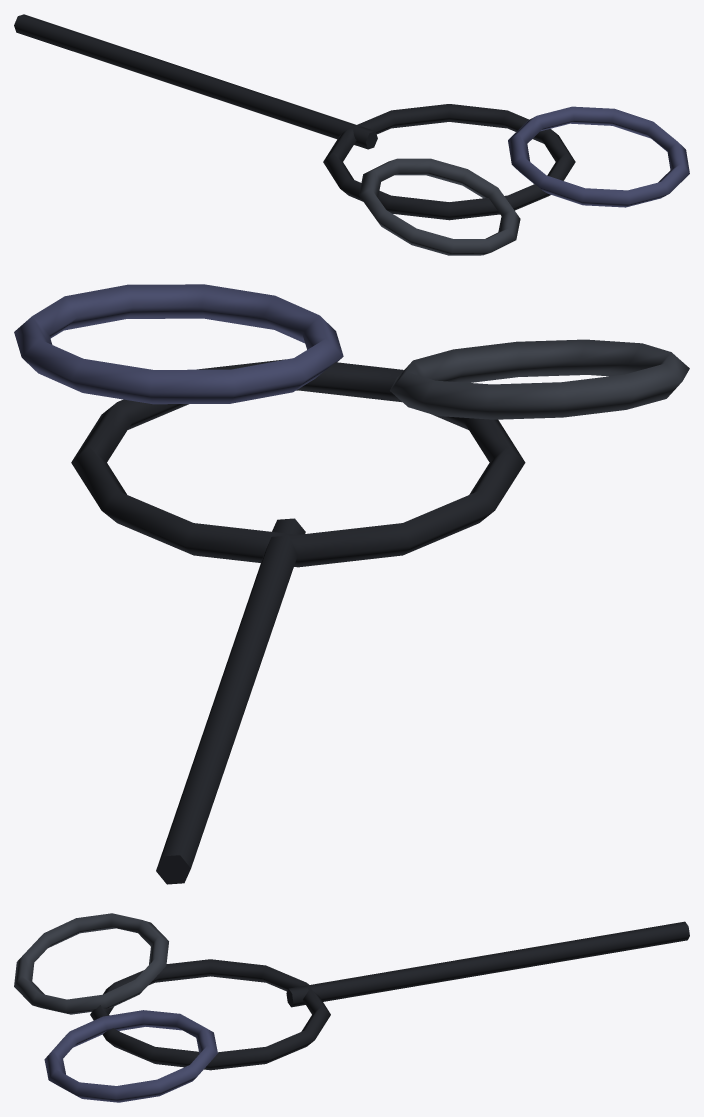
The model's file is station_buffer_ausstattung_3_0.glb.
3 views of the same model, one above another, from view 1: azimuth 30°, elevation 25°; view 2: azimuth 150°, elevation 25°; view 3: azimuth 270°, elevation 25° (orthographic). The views are drawn at different scales.
Parts seen in each view (by area): view 1: station_buffer_ausstattung_3_0; view 2: station_buffer_ausstattung_3_0; view 3: station_buffer_ausstattung_3_0.
Part boxes in pixels (<box>): station_buffer_ausstattung_3_0: <box>14,14,689,255</box>; station_buffer_ausstattung_3_0: <box>14,284,689,884</box>; station_buffer_ausstattung_3_0: <box>14,913,689,1102</box>.
Size of the model in its own units: 0.5211 by 0.0741 by 0.8522.
